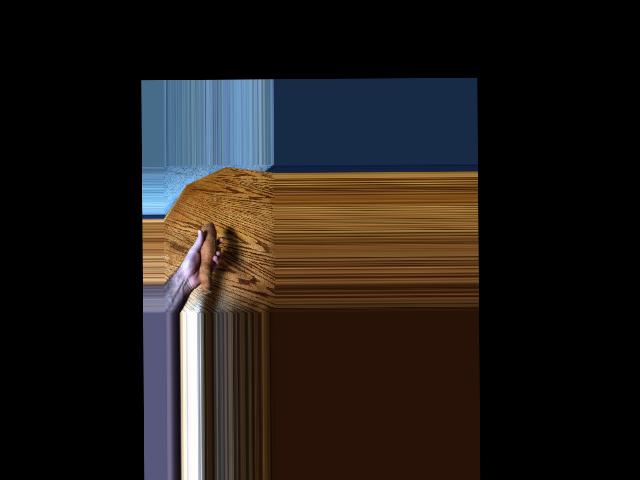sweet_potato: (190, 216, 219, 296)
